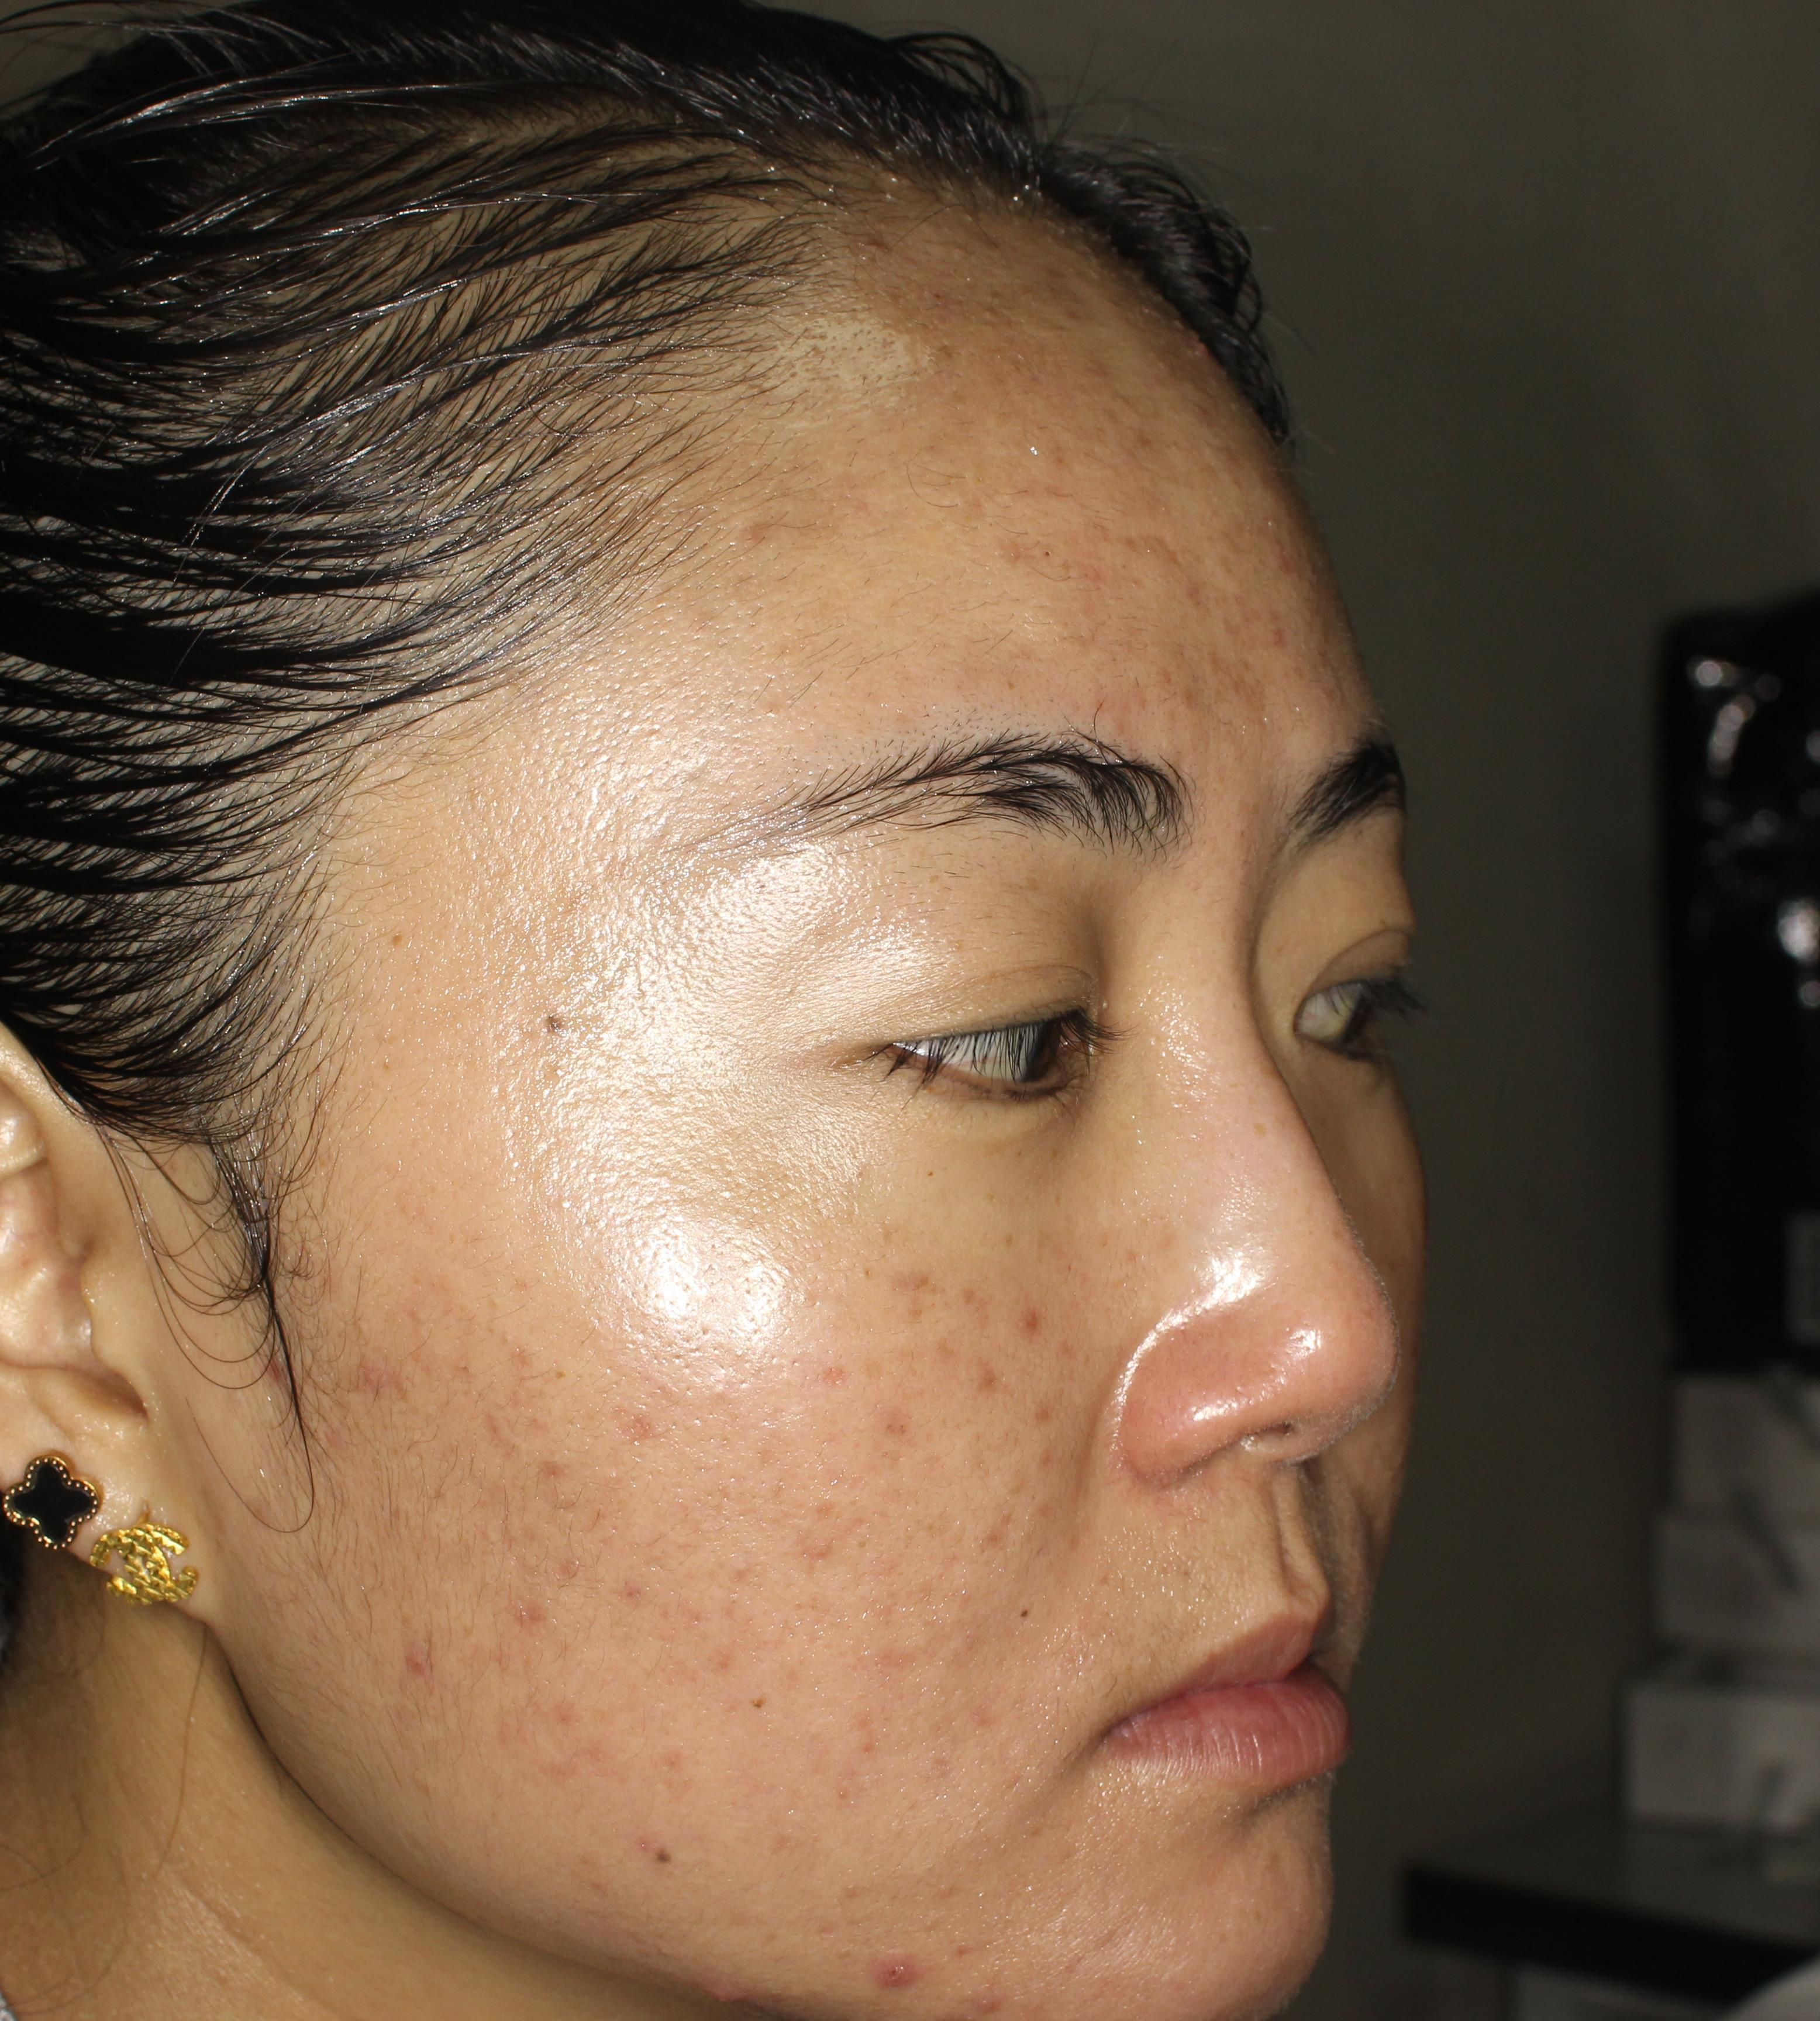fore: (1086, 657, 1198, 734), (849, 1930, 933, 2007), (1117, 509, 1179, 590), (606, 1401, 704, 1450), (597, 1545, 652, 1629), (351, 1352, 404, 1424), (861, 1392, 915, 1456), (991, 1298, 1051, 1347)
